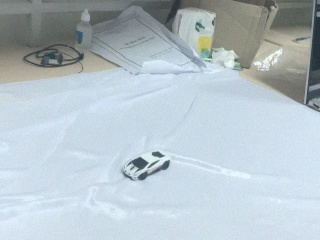bottle: (75, 9, 93, 51)
toy_car: (122, 151, 170, 180)
